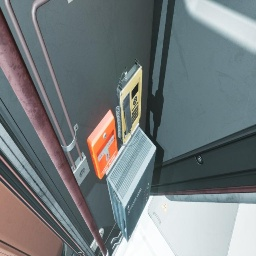EmergencyPhone ,: (116, 58, 142, 146)
FireAlarm ,: (87, 109, 118, 179)
